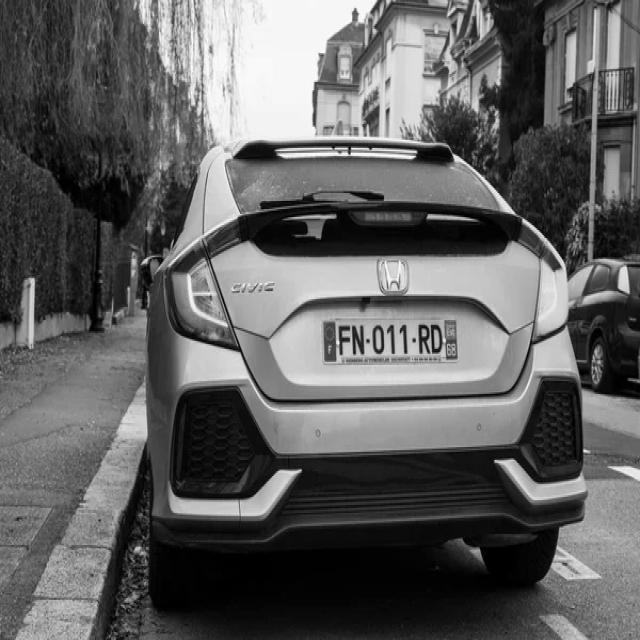Car: (146, 136, 589, 604), (570, 259, 640, 391)
Pole: (589, 0, 600, 261)
